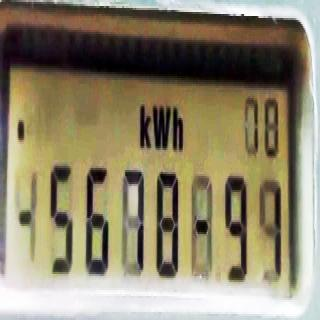-: (195, 208, 209, 248), (19, 205, 33, 232), (16, 114, 26, 146)
1: (272, 181, 283, 287), (253, 94, 259, 161)
5: (49, 157, 74, 284)
6: (84, 158, 112, 285)
7: (124, 160, 147, 282)
8: (153, 160, 180, 289), (264, 90, 280, 169)
9: (221, 164, 250, 289)
